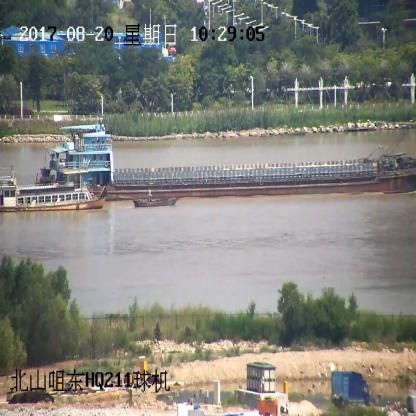Fishing Boat: (0, 169, 108, 210), (133, 191, 178, 206)
